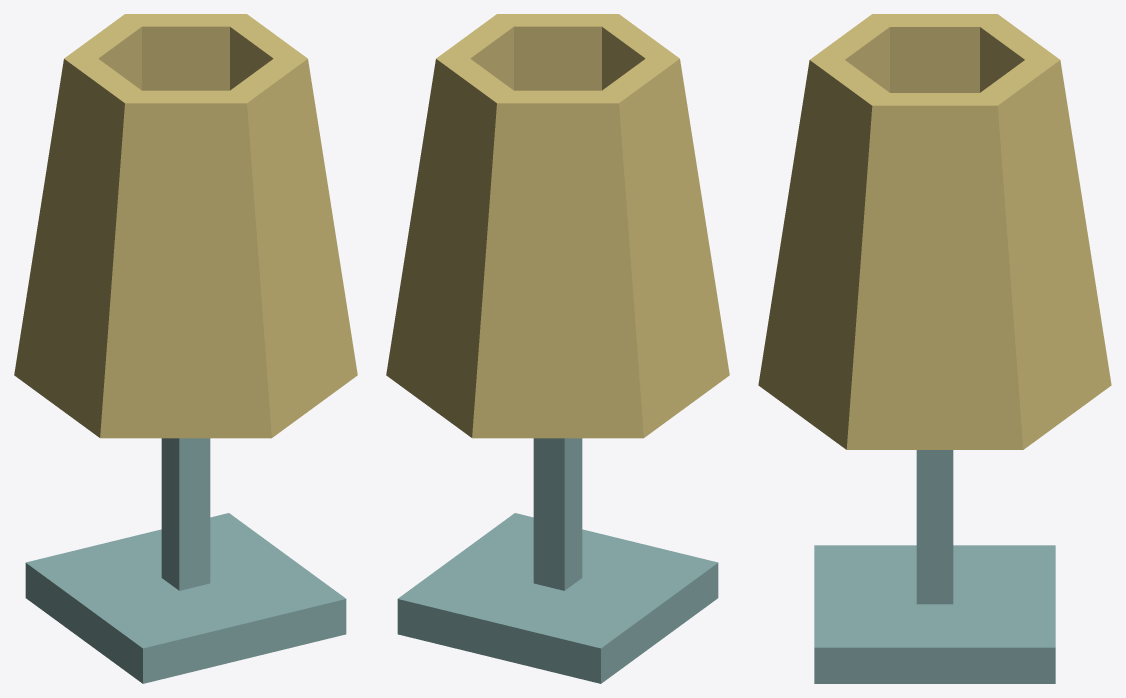
Rendered from lampRoundTable.glb.
3 views of the same model, side by side, from view 1: azimuth 30°, elevation 25°; view 2: azimuth 150°, elevation 25°; view 3: azimuth 270°, elevation 25° (orthographic). The views are drawn at different scales.
Parts seen in each view (by area): view 1: lampRoundTable; view 2: lampRoundTable; view 3: lampRoundTable.
Part boxes in pixels (x1,y1,x2,y2): lampRoundTable: (14,14,357,683); lampRoundTable: (386,14,729,683); lampRoundTable: (758,14,1111,683).
Bounding box in the file's own units: 0.3041 × 0.6285 × 0.3511.
